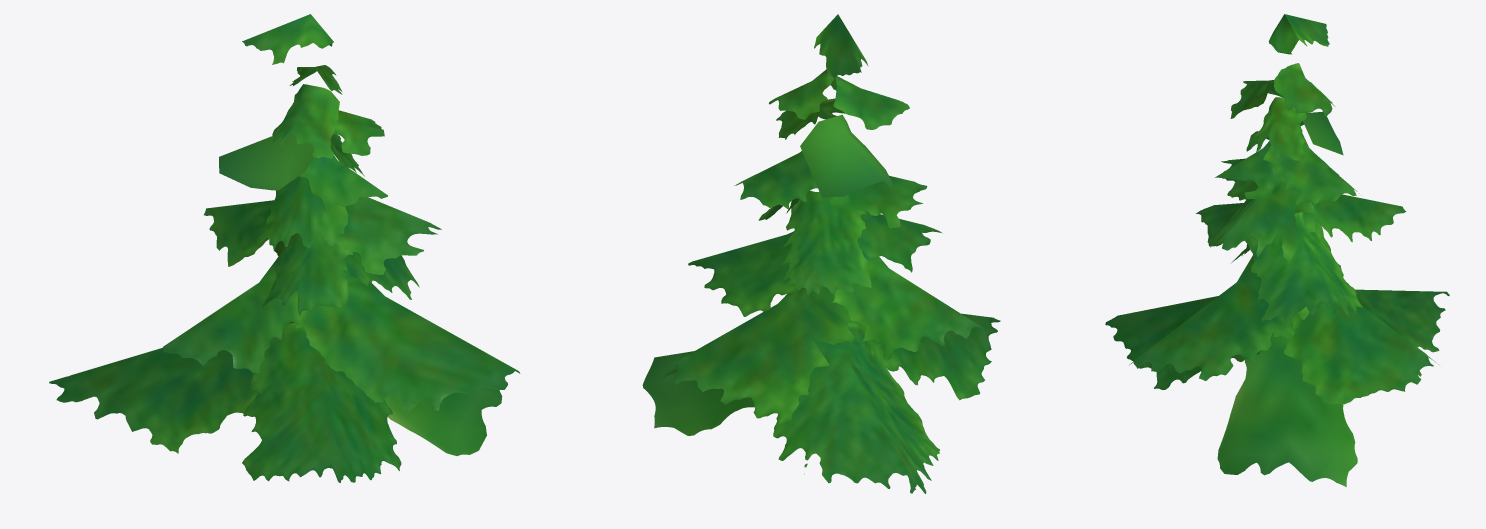
Rendered from crash_trunk.glb.
3 renders of one model, left to right at view 1: azimuth 30°, elevation 25°; view 2: azimuth 150°, elevation 25°; view 3: azimuth 270°, elevation 25°, orthographic. The views are drawn at different scales.
Visible parts, largest first — view 1: leaves; view 2: leaves; view 3: leaves.
Boxes of the visible parts, box(x1,y1,x2,y2) form: leaves: box(49, 14, 520, 482); leaves: box(642, 14, 1000, 493); leaves: box(1105, 14, 1449, 486).
Size of the model in its own units: 0.6856 by 0.6841 by 0.5899.
1 material, 1 textured.
